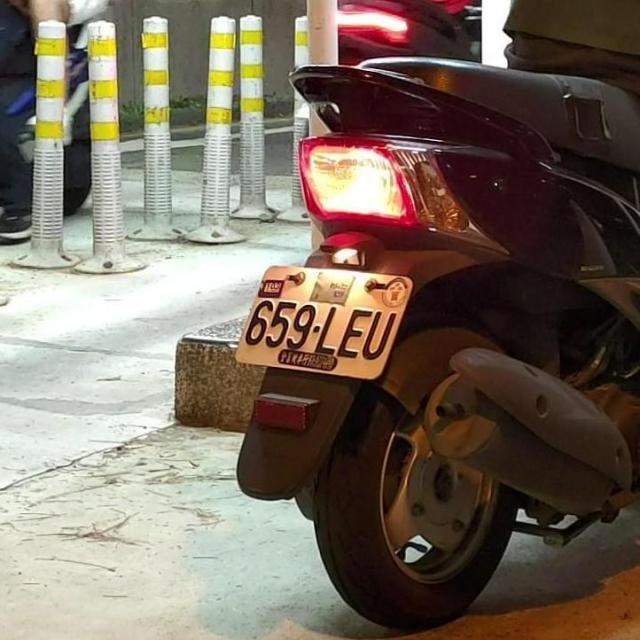W: (232, 249, 417, 387)
